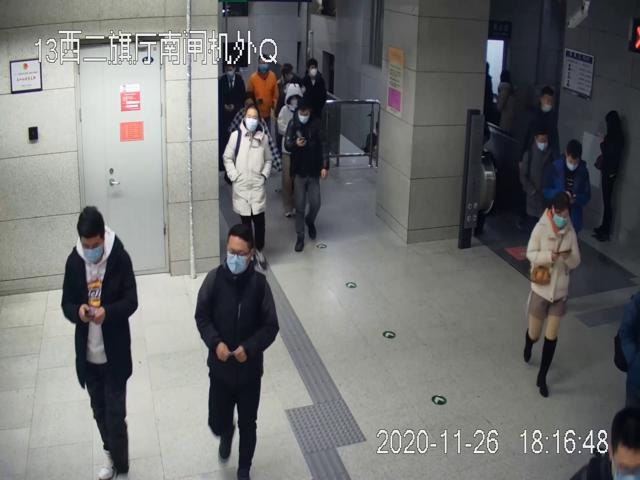person: (61, 204, 140, 480), (194, 225, 279, 480), (526, 191, 580, 398), (223, 106, 272, 272), (285, 97, 329, 252)
